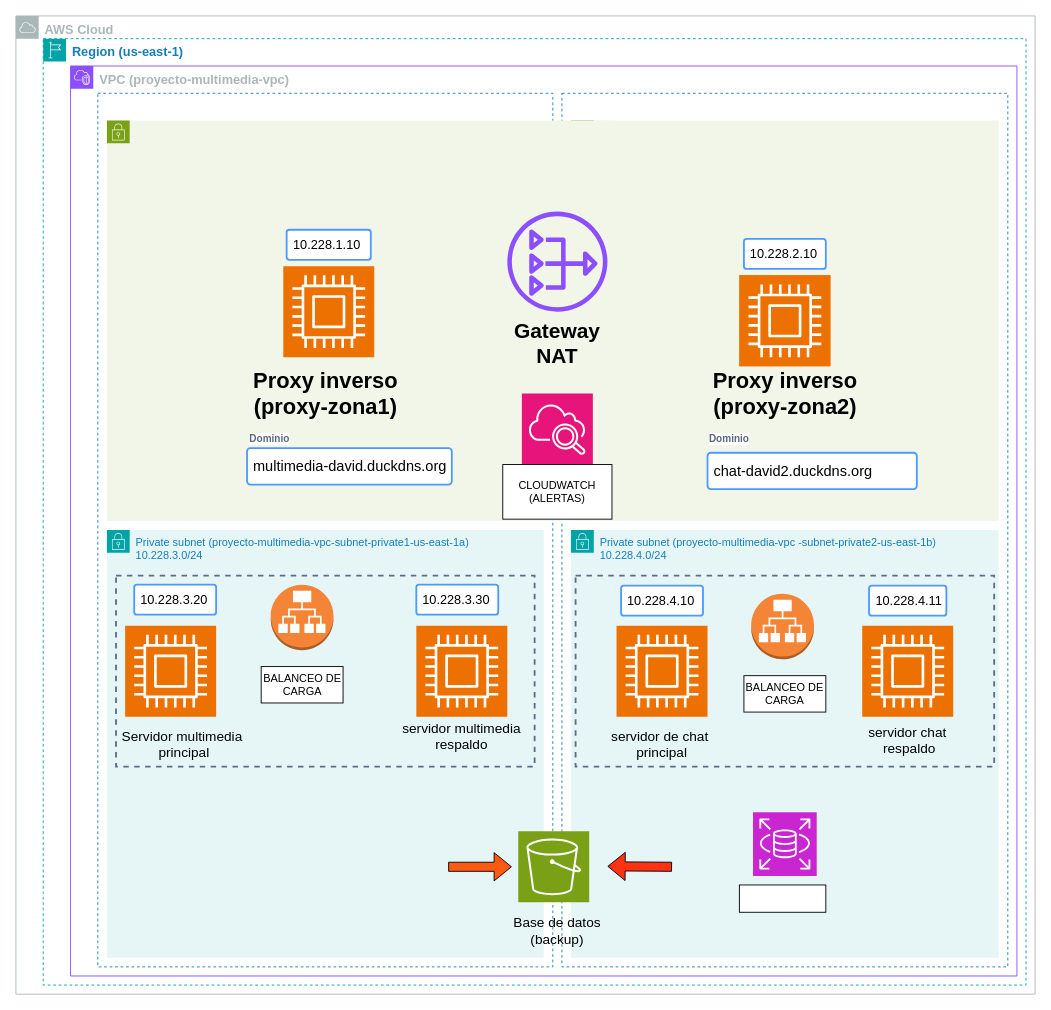
Image size: 1051x1010. Some labels were removed from this diagram. Each missing label, with the box of its shape:
Availability Zone 1 (us-east-1a): (97, 92, 553, 967)
Availability Zone 2 (us-east-1b): (561, 92, 1008, 967)
Public subnet (proyecto-multimedia-vpc subnet-public1-us-east-1a) 10.228.1.0/24: (106, 120, 612, 521)
Public subnet (proyecto-multimedia-vpc subnet-public2-us-east-1b) 10.228.2.0/24: (570, 120, 999, 521)
RDS: (738, 884, 826, 912)
